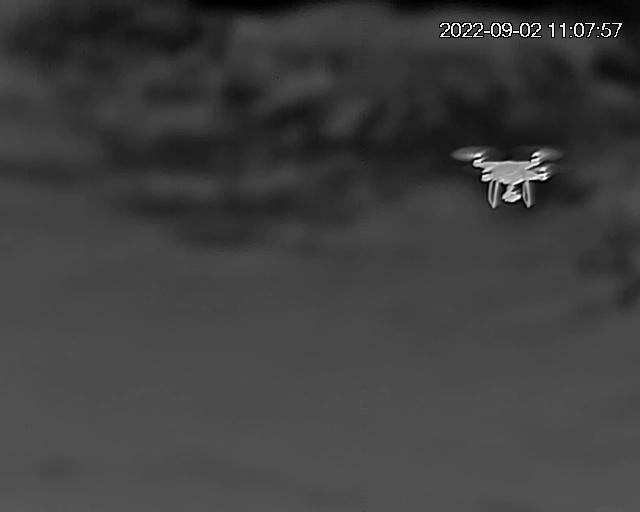DJI-Phantom: (449, 146, 559, 211)
